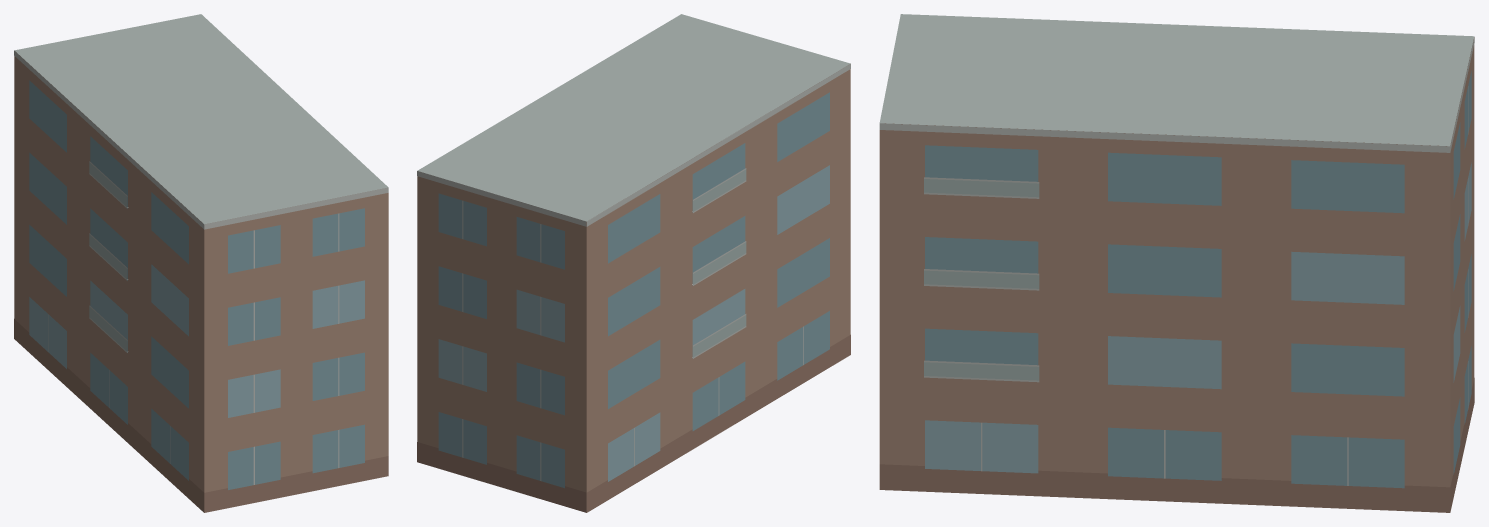
The model's file is survey-upis-32702820.glb.
3 renders of one model, left to right at view 1: azimuth 30°, elevation 25°; view 2: azimuth 150°, elevation 25°; view 3: azimuth 270°, elevation 25°, orthographic. The views are drawn at different scales.
Parts seen in each view (by area): view 1: survey-upis-32702820.tmp; view 2: survey-upis-32702820.tmp; view 3: survey-upis-32702820.tmp.
Part boxes in pixels (x1=…): survey-upis-32702820.tmp: x1=14, y1=14, x2=388, y2=512; survey-upis-32702820.tmp: x1=417, y1=14, x2=850, y2=512; survey-upis-32702820.tmp: x1=879, y1=14, x2=1474, y2=512.
Size of the model in its own units: 10.3 by 13.3 by 19.57.
